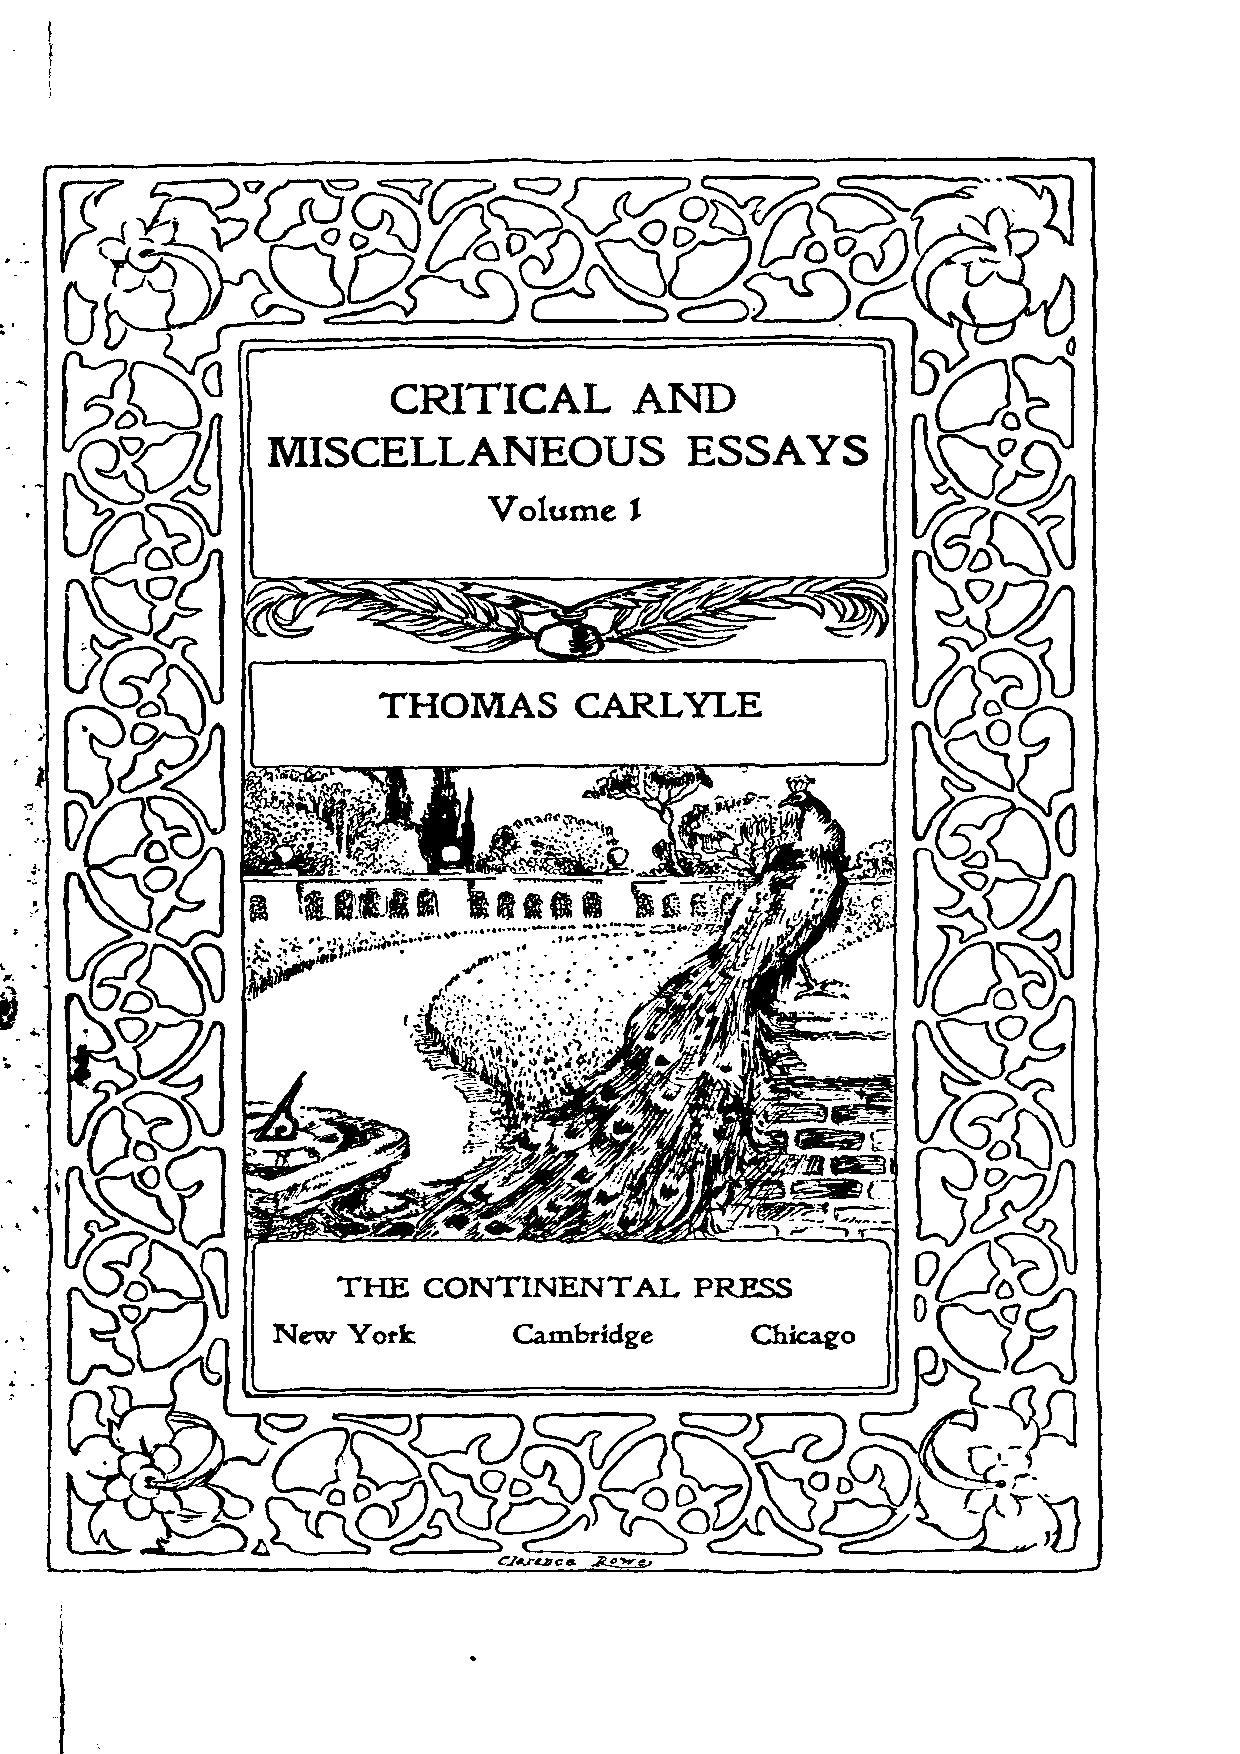author: (373, 688, 764, 721)
title: (263, 378, 868, 525)
